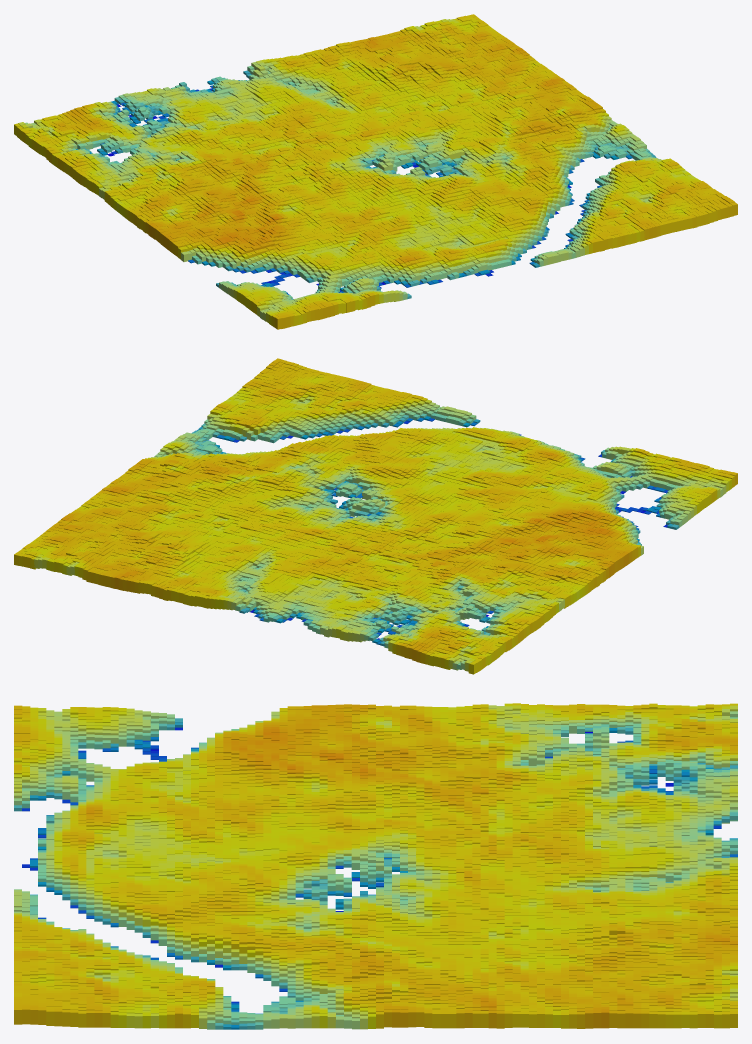
Rendered from population.glb.
3 views of the same model, one above another, from view 1: azimuth 30°, elevation 25°; view 2: azimuth 150°, elevation 25°; view 3: azimuth 270°, elevation 25° (orthographic). The views are drawn at different scales.
Visible parts, largest first — view 1: population; view 2: population; view 3: population.
Boxes of the visible parts, box(x1,y1,x2,y2) form: population: box(14, 14, 737, 329); population: box(14, 358, 737, 674); population: box(14, 703, 737, 1029).
Size of the model in its own units: 9037 by 403 by 8975.
